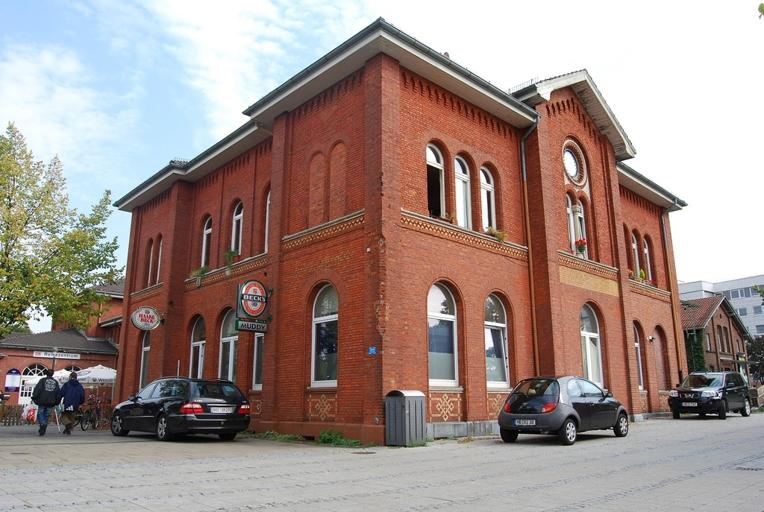non-vehicle: (72, 399, 101, 430), (79, 392, 102, 431)
